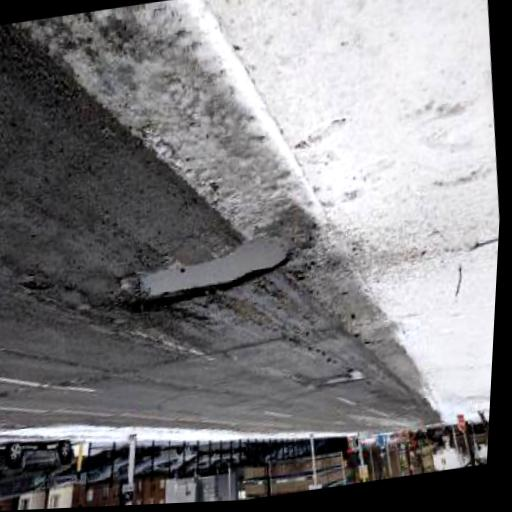pothole: (114, 235, 299, 316)
